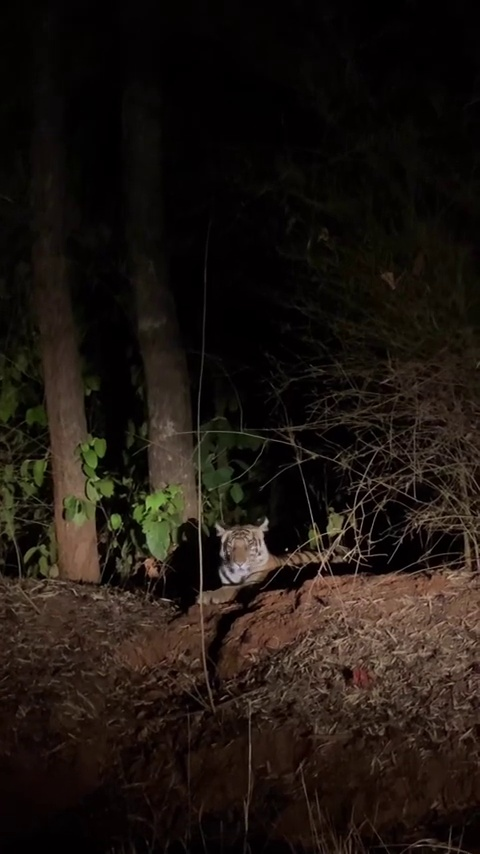Tiger: (196, 514, 340, 603)
